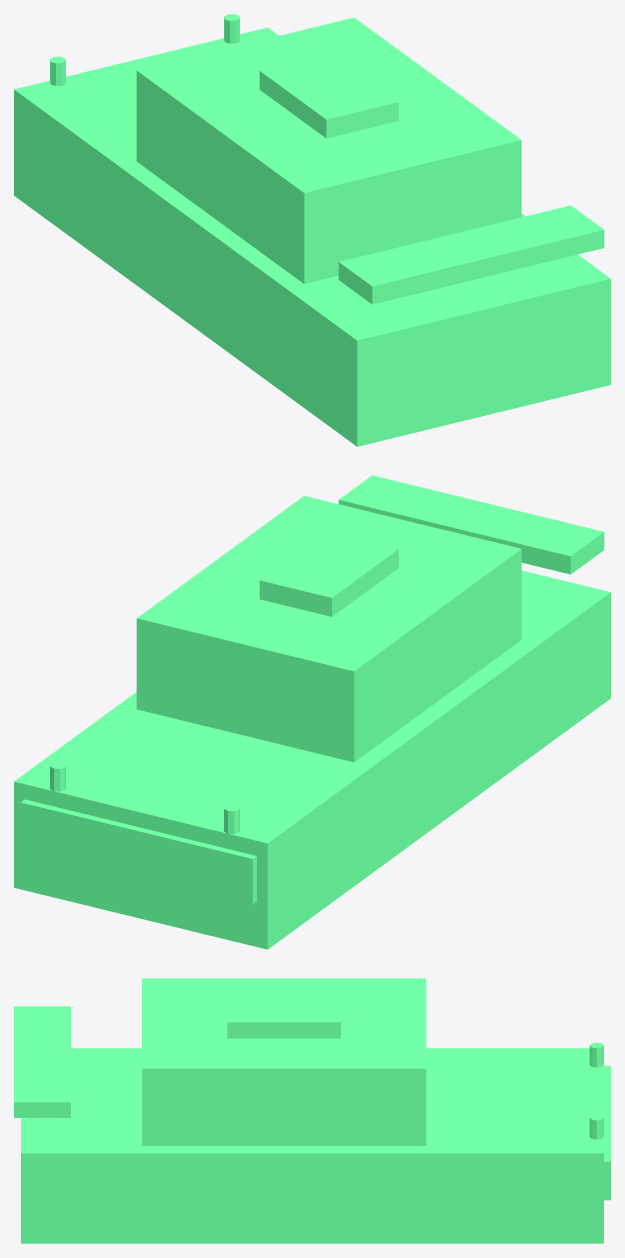
The model's file is awd.glb.
The picture shows the model from 3 angles, top to bottom: view 1: azimuth 30°, elevation 25°; view 2: azimuth 150°, elevation 25°; view 3: azimuth 270°, elevation 25°; orthographic projection. The views are drawn at different scales.
Parts seen in each view (by area): view 1: awd; view 2: awd; view 3: awd.
Boxes of the visible parts, left/top/right/bottom form: awd: left=14, top=14, right=610, bottom=446; awd: left=14, top=475, right=610, bottom=949; awd: left=14, top=978, right=610, bottom=1243.
Size of the model in its own units: 1.75 by 1.42 by 4.2.
